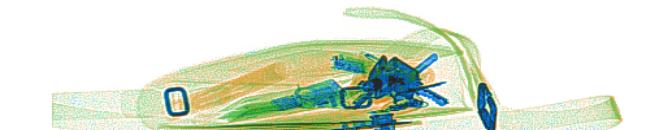USBFlashDisk: (269, 73, 344, 113)
